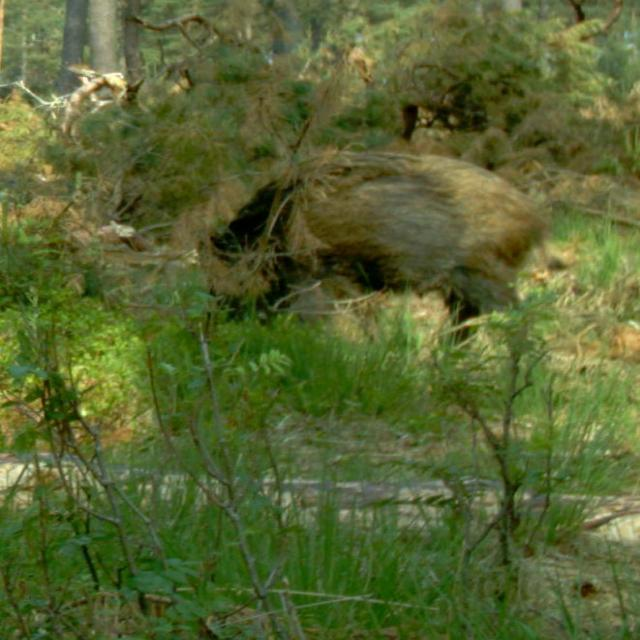pig: (192, 118, 578, 338)
